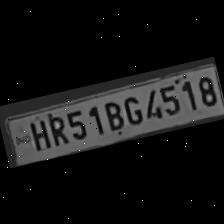1: (82, 100, 106, 138), (176, 76, 200, 113)
4: (138, 84, 162, 122)
5: (153, 79, 182, 119), (60, 104, 88, 142)
8: (192, 70, 220, 109)
B: (98, 95, 125, 133)
G: (118, 90, 144, 127)
H: (23, 113, 50, 152)
R: (44, 109, 68, 147)
